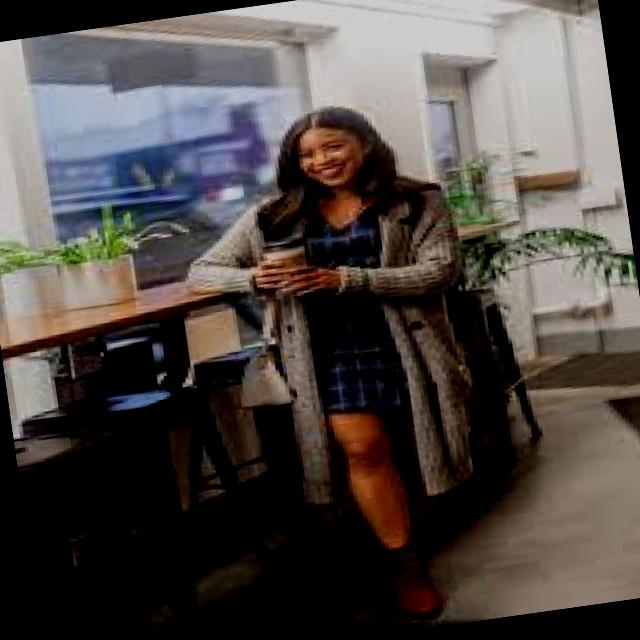dress: (312, 293, 408, 414)
